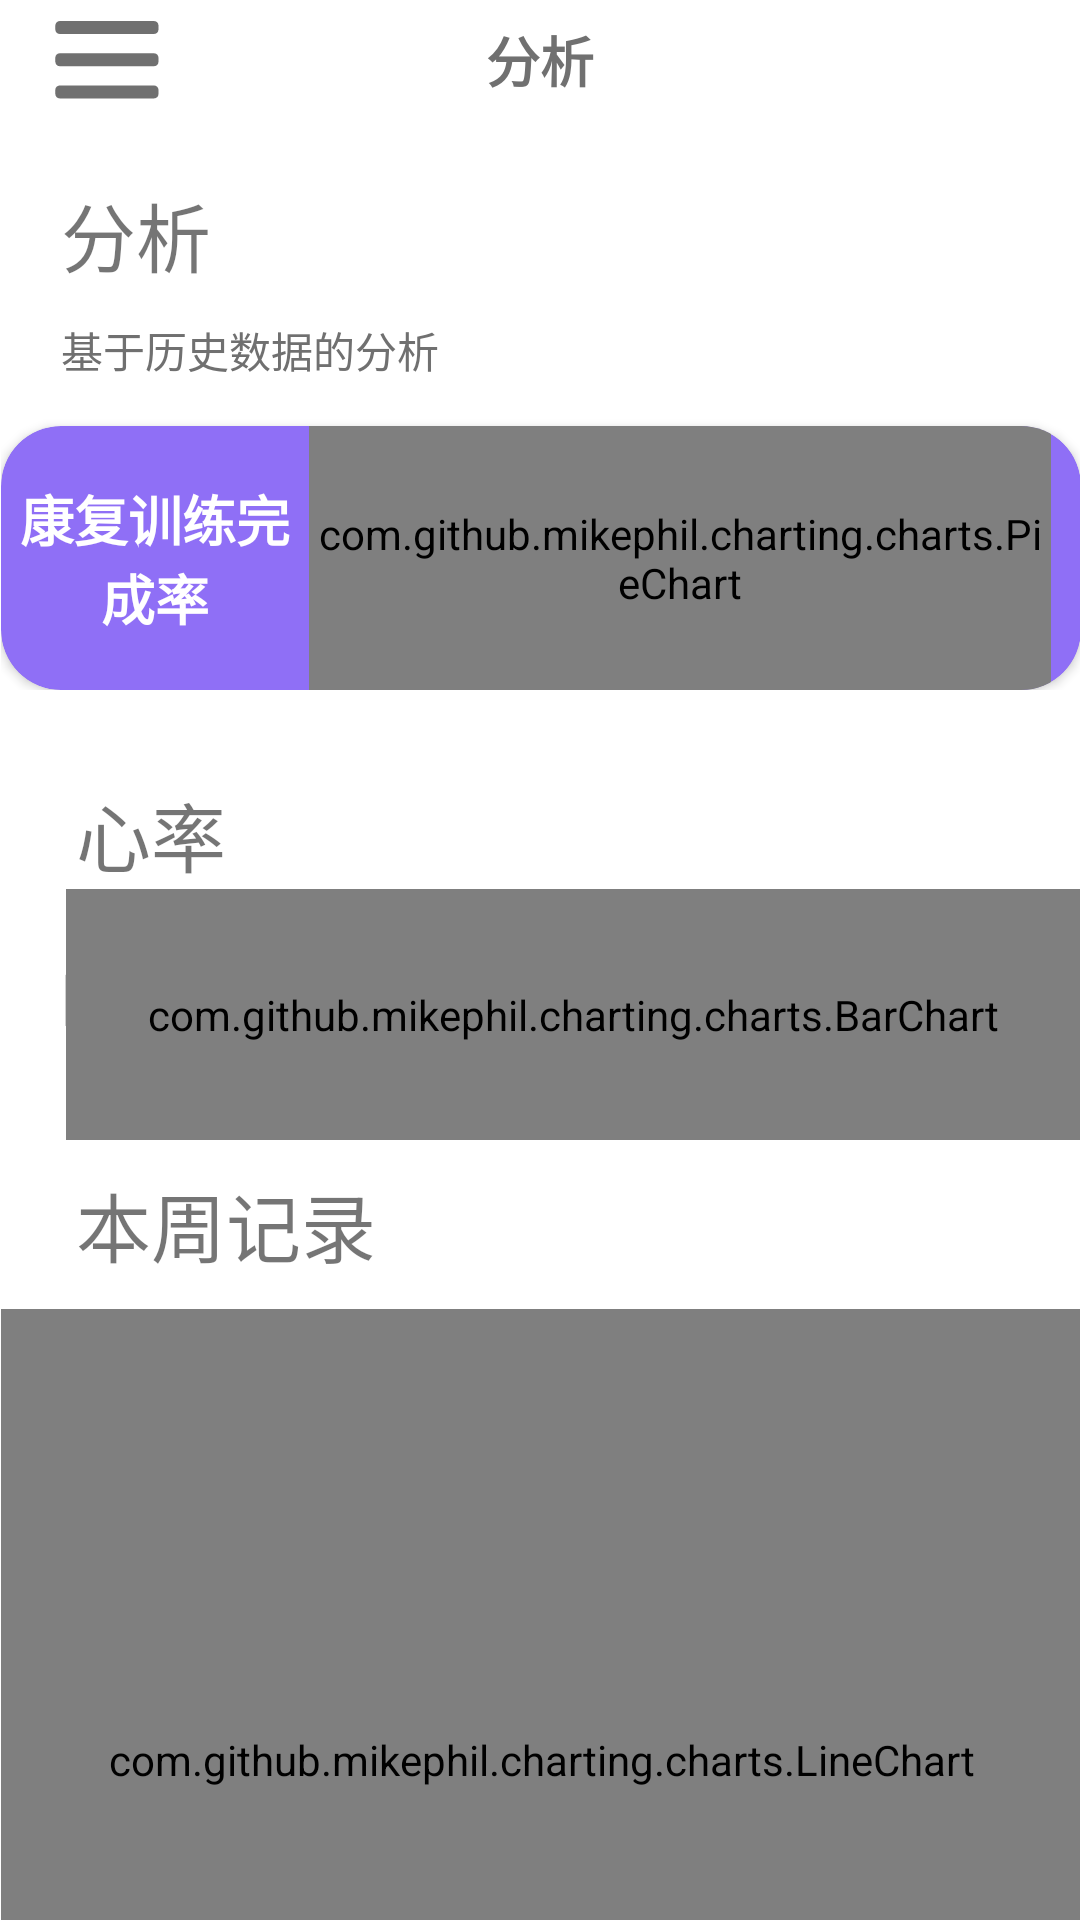

Locate icon controls on the screen. Image size 1080 × 1920, boxes as [left=x1, top=y1, right=x2, bottom=y2].
sidebar: [left=55, top=21, right=159, bottom=99]
